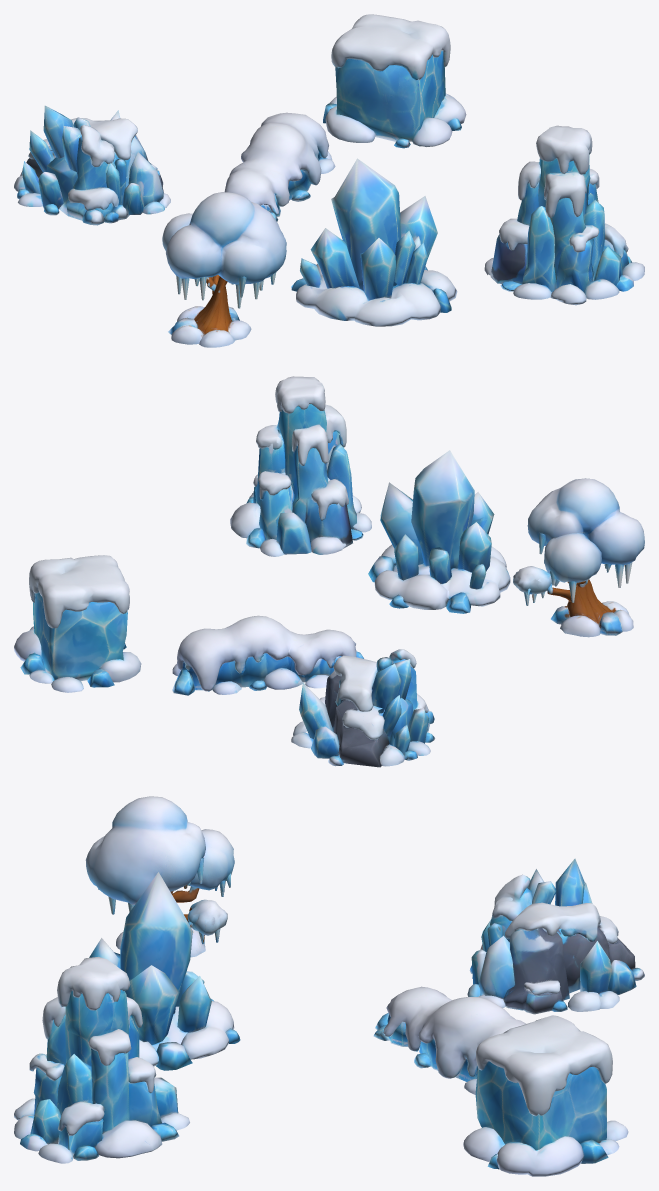
The model's file is props_ice.glb.
The picture shows the model from 3 angles, top to bottom: view 1: azimuth 30°, elevation 25°; view 2: azimuth 150°, elevation 25°; view 3: azimuth 270°, elevation 25°; orthographic projection. The views are drawn at different scales.
Bounding box in the file's own units: 0.9067 × 0.271 × 0.9526.
Materials: 1 (1 with a texture image).
